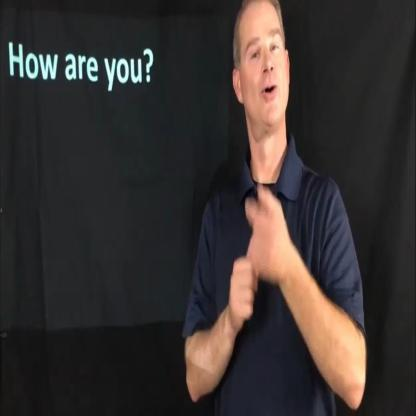HowAreYou: (222, 174, 288, 344)
